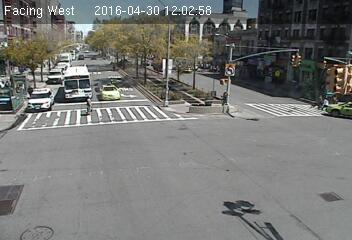neg: (183, 157, 202, 182), (191, 54, 204, 71), (160, 54, 171, 69), (87, 49, 97, 62), (109, 147, 119, 160), (43, 51, 51, 61), (18, 114, 25, 124)
pos: (82, 95, 96, 113), (321, 98, 332, 112), (25, 85, 34, 98), (220, 89, 229, 100), (318, 95, 326, 105)
